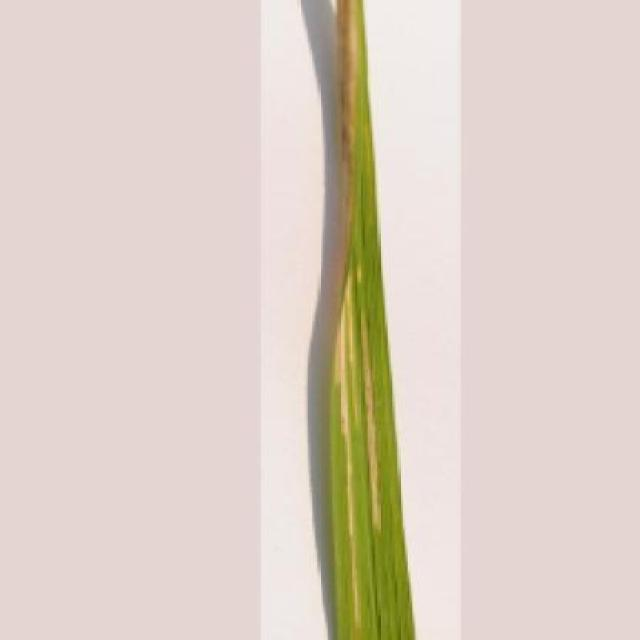Brown_Spot: (322, 0, 418, 640)
